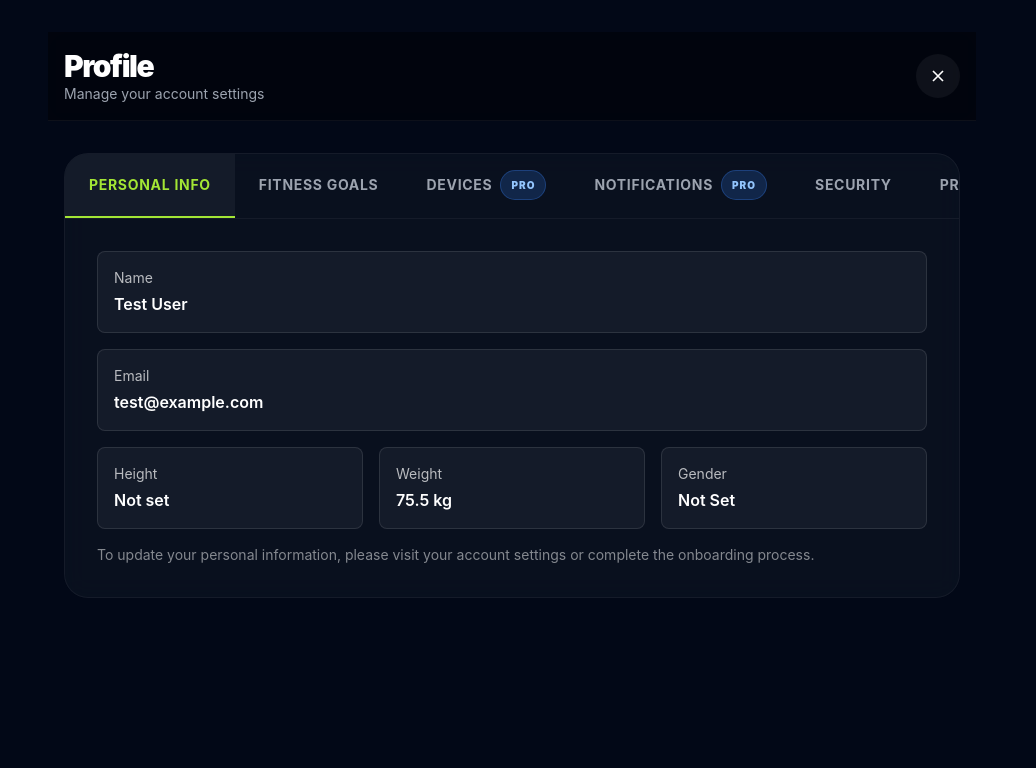
ProfileView › Fitness Goals Tab › should display goal type
Click the button "Fitness Goals" at point(319, 186), box [235,154,402,218]
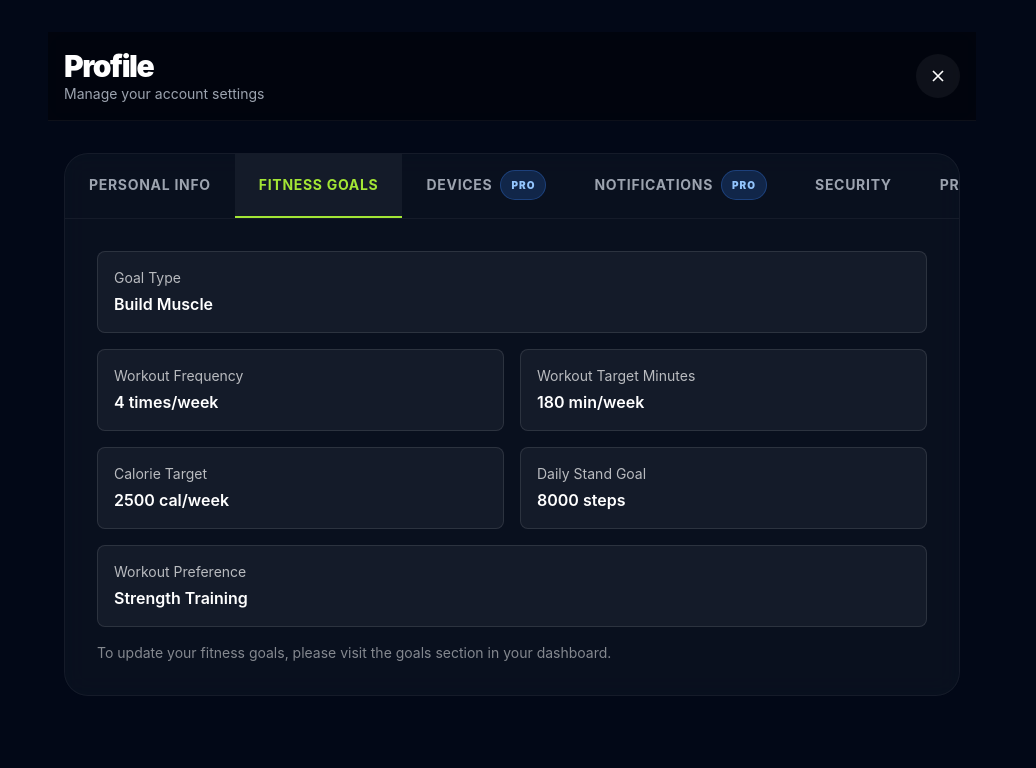
Expected: the text "Goal Type" is shown, [114,269,181,286]
Expected: the text "Build Muscle" is shown, [114,294,213,314]
